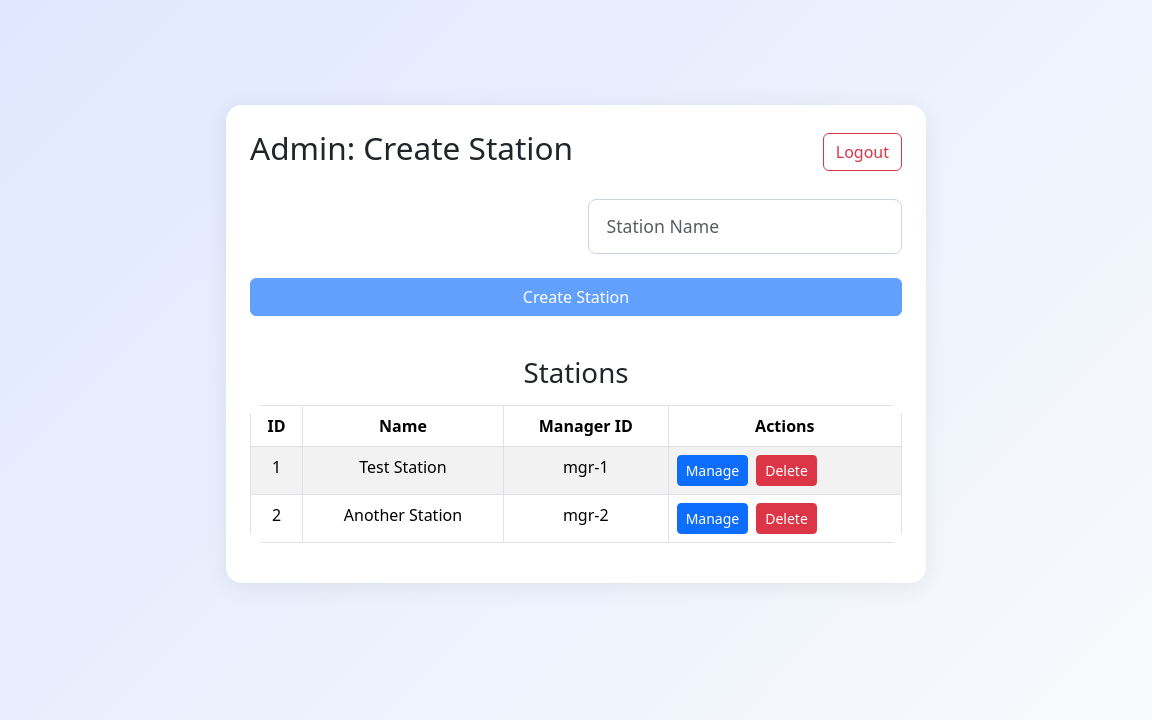
Test: AdminPanel › Station Management › creates a new station
Check: the heading "Admin: Create Station" is shown, box [250,129,573,167]
Type "New Station" into the field with placeholder "Station Name" at coordinates (745, 226), box [588,199,902,254]
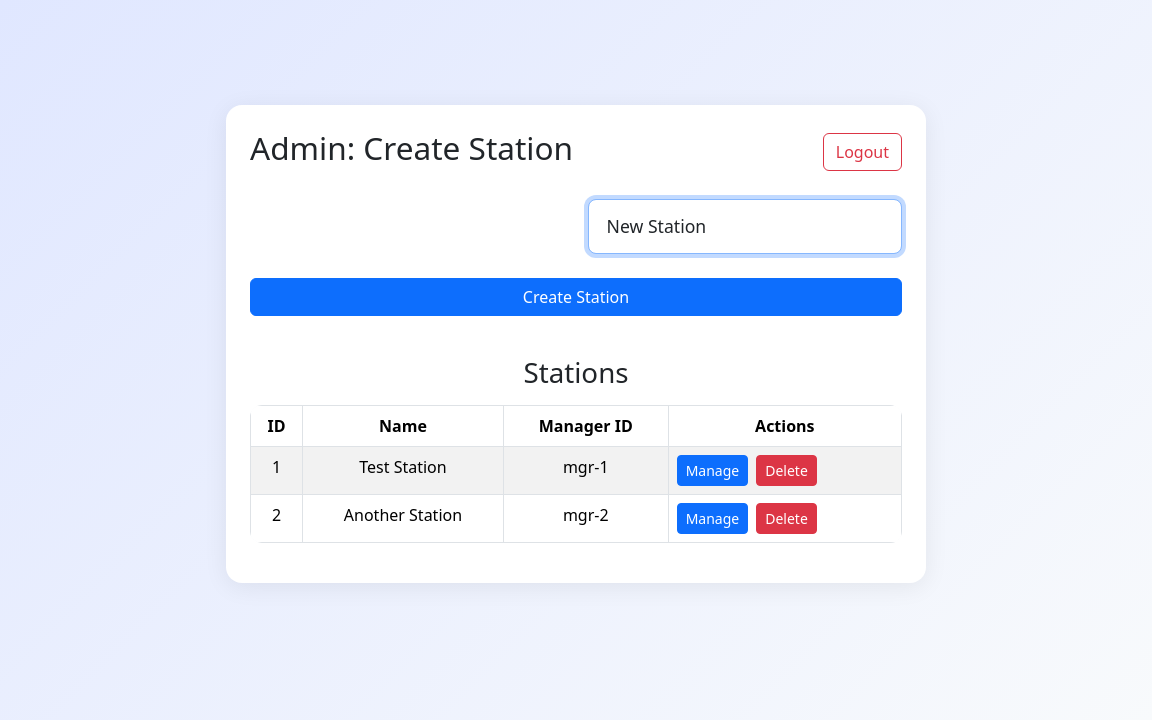
Click the button "Create Station" at coordinates (576, 297), box [250,278,902,316]
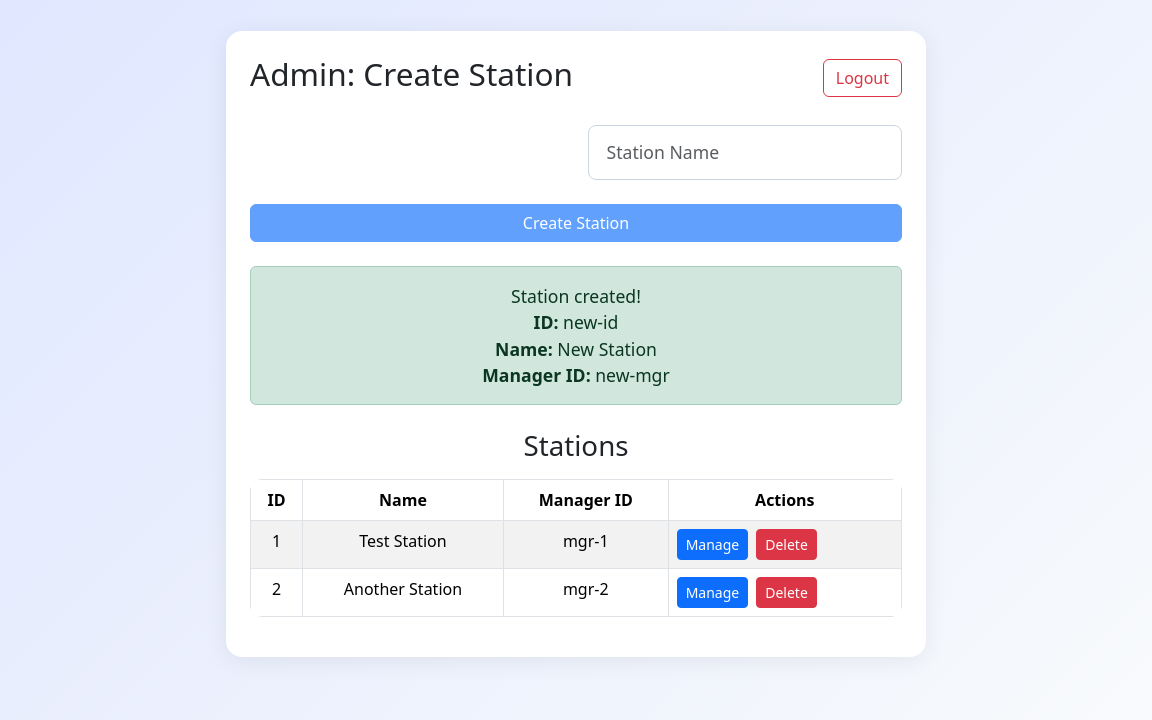
Check: the text "Station created!" is shown, box [511,284,641,308]
